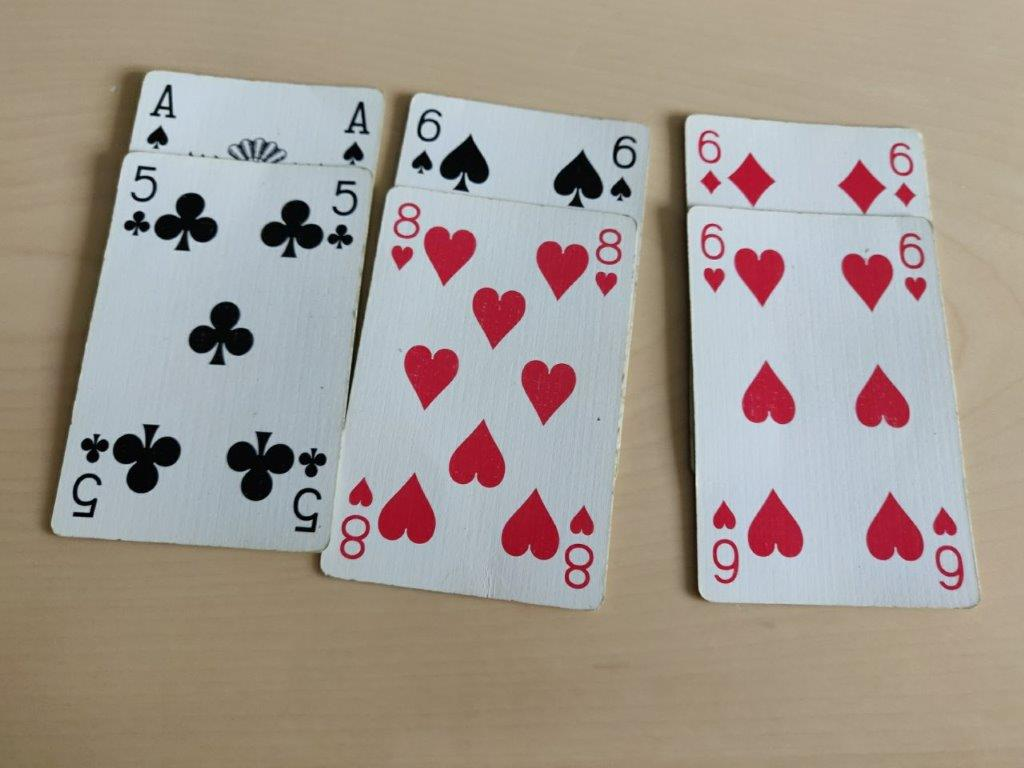5C: (115, 159, 160, 245), (325, 174, 363, 257)
6D: (692, 123, 726, 201), (888, 138, 922, 216)
6H: (692, 214, 733, 303), (891, 227, 932, 316)
6S: (404, 104, 444, 182), (603, 131, 643, 209)
8H: (385, 199, 424, 278), (587, 221, 626, 300)
AS: (137, 75, 180, 151), (334, 94, 377, 170)
